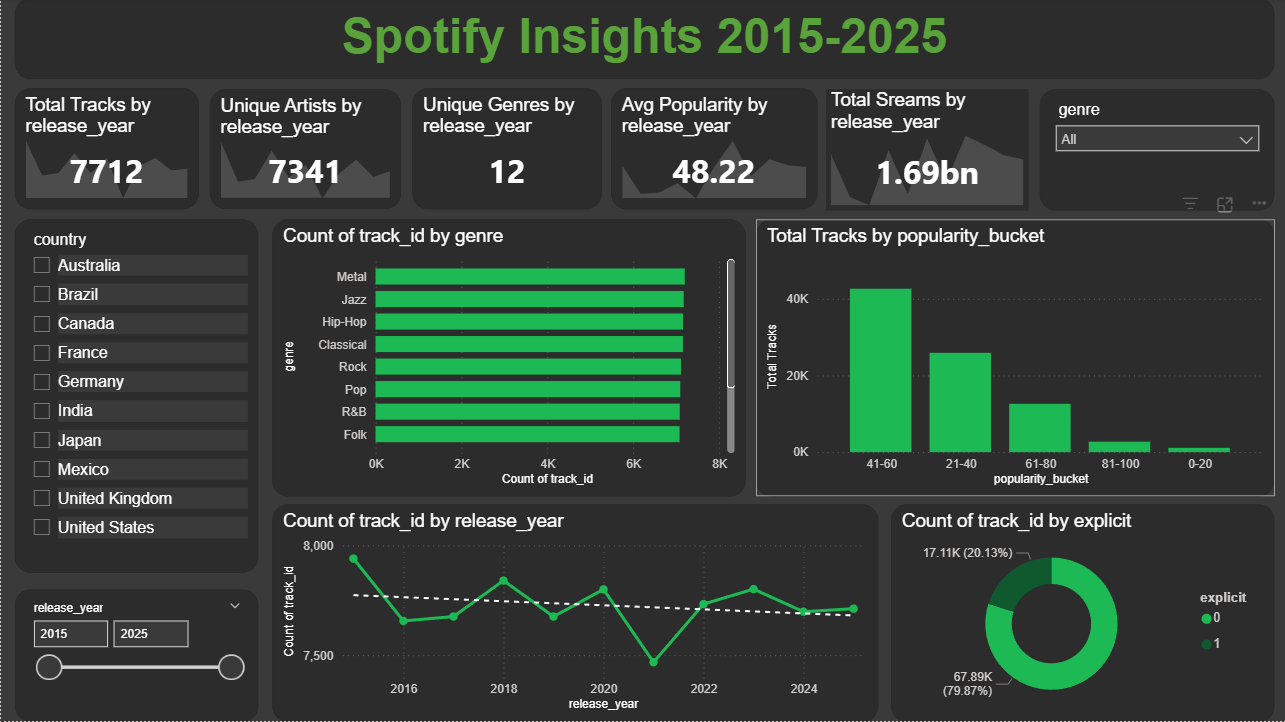

This screenshot's page, from the dashboard's own definition file:
{"tool":"powerbi","page":{"name":"overview","canvas":[1280,720],"ordinal":0},"visuals":[{"type":"kpi","fields":{"Indicator":["Table.Total Tracks"],"TrendLine":["spotify_2015_2025_85k.release_year"]},"box":[13.7,89.6,182.9,120.7],"z":0},{"type":"kpi","fields":{"Indicator":["Table.Unique Artists"],"TrendLine":["spotify_2015_2025_85k.release_year"]},"box":[207.7,90.8,190.3,119.4],"z":1000},{"type":"kpi","fields":{"Indicator":["Table.Unique Genres"],"TrendLine":["spotify_2015_2025_85k.release_year"]},"box":[409.3,89.6,189.1,120.7],"z":2000},{"type":"kpi","fields":{"Indicator":["Table.Avg Popularity"],"TrendLine":["spotify_2015_2025_85k.release_year"]},"box":[607.1,89.6,205.3,120.7],"z":3000},{"type":"kpi","fields":{"TrendLine":["spotify_2015_2025_85k.release_year"],"Indicator":["Table.Total Sreams"]},"box":[821,90.8,201.5,120.7],"z":4000},{"type":"clusteredBarChart","fields":{"Category":["spotify_2015_2025_85k.genre"],"Y":["CountNonNull(spotify_2015_2025_85k.track_id)"]},"box":[269.9,220.2,471.5,276.2],"z":5000},{"type":"clusteredColumnChart","fields":{"Category":["spotify_2015_2025_85k.popularity_bucket"],"Y":["Table.Total Tracks"]},"box":[751.4,220.2,516.2,276.2],"z":6000},{"type":"slicer","fields":{"Values":["spotify_2015_2025_85k.genre"]},"box":[1033.7,90.8,233.9,120.7],"z":7000},{"type":"slicer","fields":{"Values":["spotify_2015_2025_85k.country"]},"box":[13.7,220.2,242.6,352],"z":8000},{"type":"slicer","fields":{"Values":["spotify_2015_2025_85k.release_year"]},"box":[13.7,588.4,242.6,131.9],"z":9000},{"type":"lineChart","fields":{"Category":["spotify_2015_2025_85k.release_year"],"Y":["CountNonNull(spotify_2015_2025_85k.track_id)"]},"box":[269.9,503.8,603.3,216.4],"z":10000},{"type":"textbox","box":[13.7,0,1253.9,80.9],"z":11000},{"type":"donutChart","fields":{"Y":["CountNonNull(spotify_2015_2025_85k.track_id)"],"Category":["spotify_2015_2025_85k.explicit"]},"box":[885.7,503.8,381.9,216.4],"z":12000}]}

Visuals, with their boxes in screenshot pixels (x1, y1, x2, y2), scaled from the page's 1280x720 canvas onto the 1285x722 screenshot:
kpi - Table.Total Tracks x spotify_2015_2025_85k.release_year: 14:90:197:211
kpi - Table.Unique Artists x spotify_2015_2025_85k.release_year: 209:91:400:211
kpi - Table.Unique Genres x spotify_2015_2025_85k.release_year: 411:90:601:211
kpi - Table.Avg Popularity x spotify_2015_2025_85k.release_year: 609:90:816:211
kpi - spotify_2015_2025_85k.release_year x Table.Total Sreams: 824:91:1026:212
clusteredBarChart - spotify_2015_2025_85k.genre x CountNonNull(spotify_2015_2025_85k.track_id): 271:221:744:498
clusteredColumnChart - spotify_2015_2025_85k.popularity_bucket x Table.Total Tracks: 754:221:1273:498
slicer - spotify_2015_2025_85k.genre: 1038:91:1273:212
slicer - spotify_2015_2025_85k.country: 14:221:257:574
slicer - spotify_2015_2025_85k.release_year: 14:590:257:721
lineChart - spotify_2015_2025_85k.release_year x CountNonNull(spotify_2015_2025_85k.track_id): 271:505:877:721
textbox: 14:0:1273:81
donutChart - CountNonNull(spotify_2015_2025_85k.track_id) x spotify_2015_2025_85k.explicit: 889:505:1273:721
